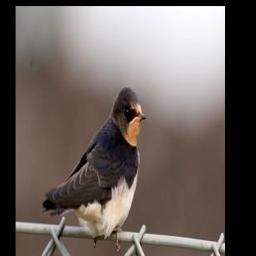Swallow: (41, 84, 146, 251)
